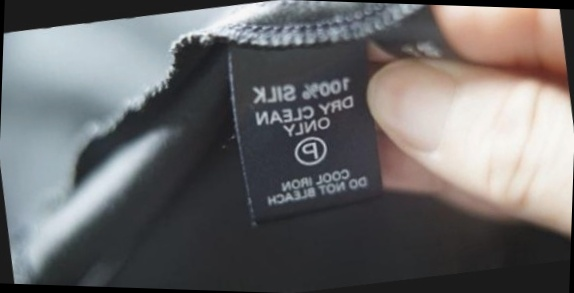dry_clean_any_solvent_except_trichloroethylene: (290, 132, 329, 168)
